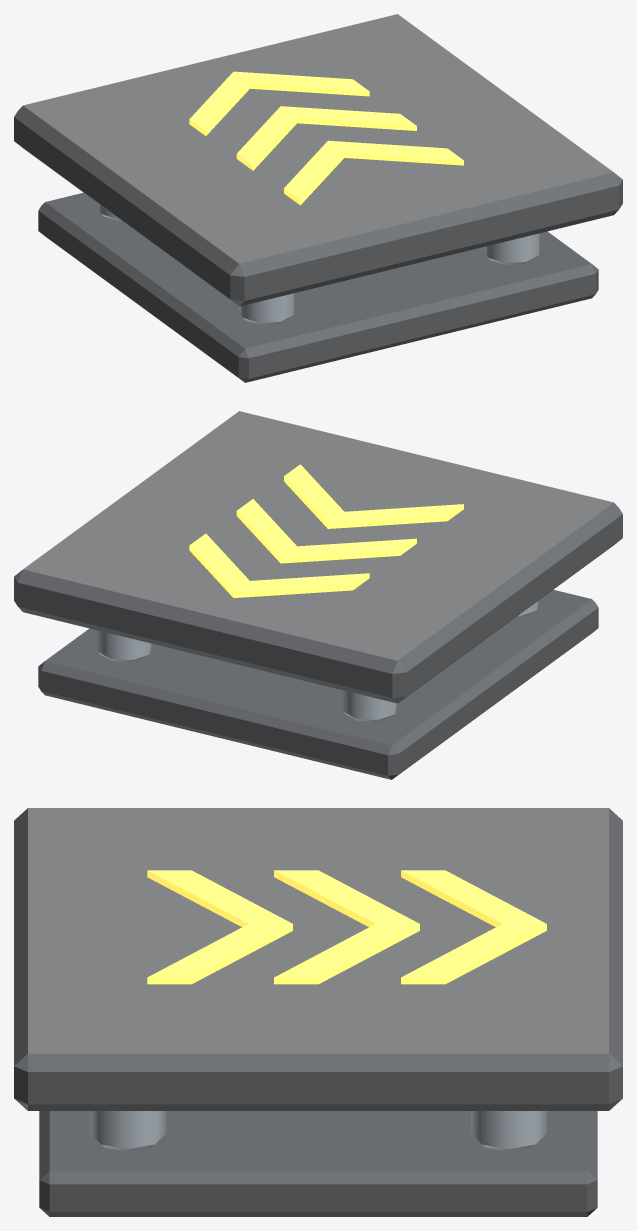
Rendered from R4D_KnockbackTrap_LOD1.glb.
3 renders of one model, top to bottom at view 1: azimuth 30°, elevation 25°; view 2: azimuth 150°, elevation 25°; view 3: azimuth 270°, elevation 25°, orthographic. The views are drawn at different scales.
Parts seen in each view (by area): view 1: R4D_KnockbackTrap_LOD1; view 2: R4D_KnockbackTrap_LOD1; view 3: R4D_KnockbackTrap_LOD1.
Part boxes in pixels (<box>): R4D_KnockbackTrap_LOD1: <box>14,14,622,382</box>; R4D_KnockbackTrap_LOD1: <box>14,411,622,779</box>; R4D_KnockbackTrap_LOD1: <box>14,808,622,1216</box>.
Bounding box in the file's own units: 0.48 × 0.156 × 0.48.
